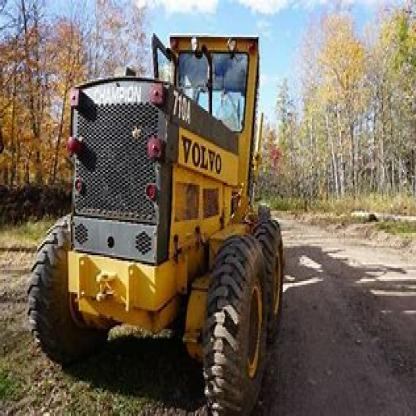bull_dozer/loader/grader: (18, 20, 308, 414)
